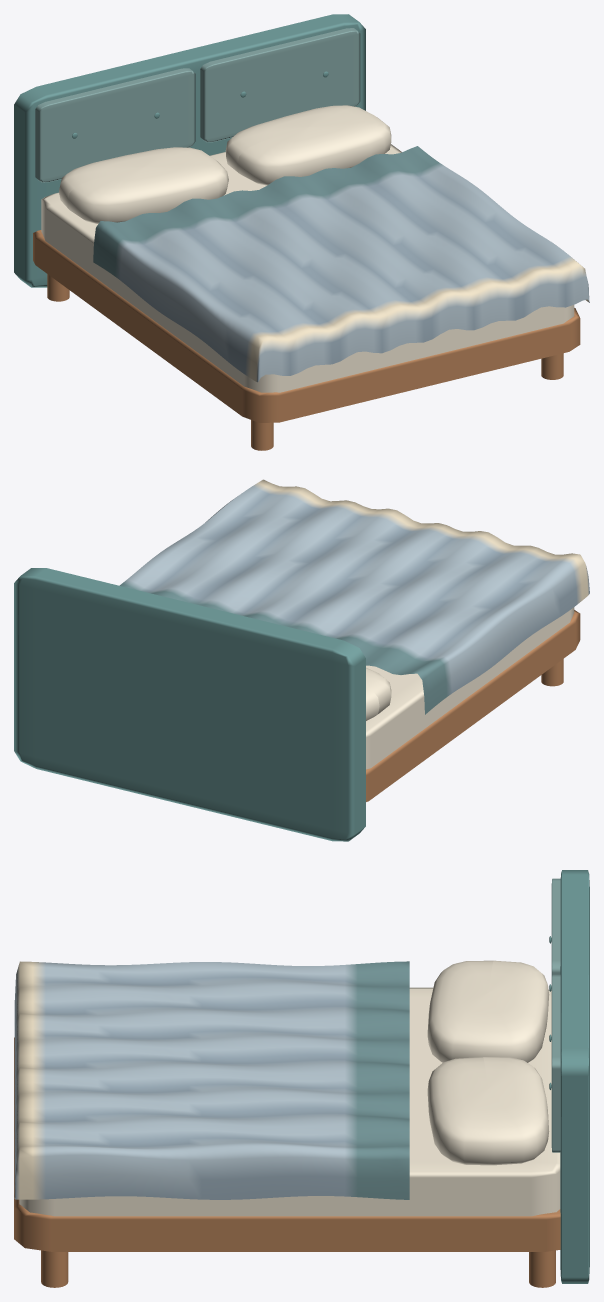
File: apartment-bed-v1.glb
3 renders of one model, top to bottom at view 1: azimuth 30°, elevation 25°; view 2: azimuth 150°, elevation 25°; view 3: azimuth 270°, elevation 25°, orthographic. The views are drawn at different scales.
Parts seen in each view (by area): view 1: Channel-quilt, Headboard-panel (×2), Down-pillow (×2), Oak-frame, Upholstered-head, Mattress, Foot; view 2: Upholstered-head, Channel-quilt, Oak-frame, Mattress, Down-pillow; view 3: Channel-quilt, Down-pillow (×2), Mattress, Oak-frame, Upholstered-head, Headboard-panel (×2), Foot (×2).
Part boxes in pixels (<box>): Channel-quilt: <box>93,146,589,382</box>; Headboard-panel (×2): <box>35,28,360,182</box>; Down-pillow (×2): <box>59,105,391,223</box>; Oak-frame: <box>33,230,580,422</box>; Upholstered-head: <box>14,14,365,287</box>; Mattress: <box>41,144,574,392</box>; Foot: <box>251,420,273,450</box>; Upholstered-head: <box>14,568,365,841</box>; Channel-quilt: <box>119,479,589,714</box>; Oak-frame: <box>366,610,580,801</box>; Mattress: <box>366,607,574,769</box>; Down-pillow: <box>366,668,391,720</box>; Channel-quilt: <box>14,961,409,1199</box>; Down-pillow (×2): <box>427,960,549,1165</box>; Mattress: <box>19,987,560,1216</box>; Oak-frame: <box>14,1037,560,1251</box>; Upholstered-head: <box>560,870,589,1283</box>; Headboard-panel (×2): <box>551,878,560,1152</box>; Foot (×2): <box>41,1250,555,1287</box>.
Size of the model in its own units: 1.74 by 0.96 by 2.12.
